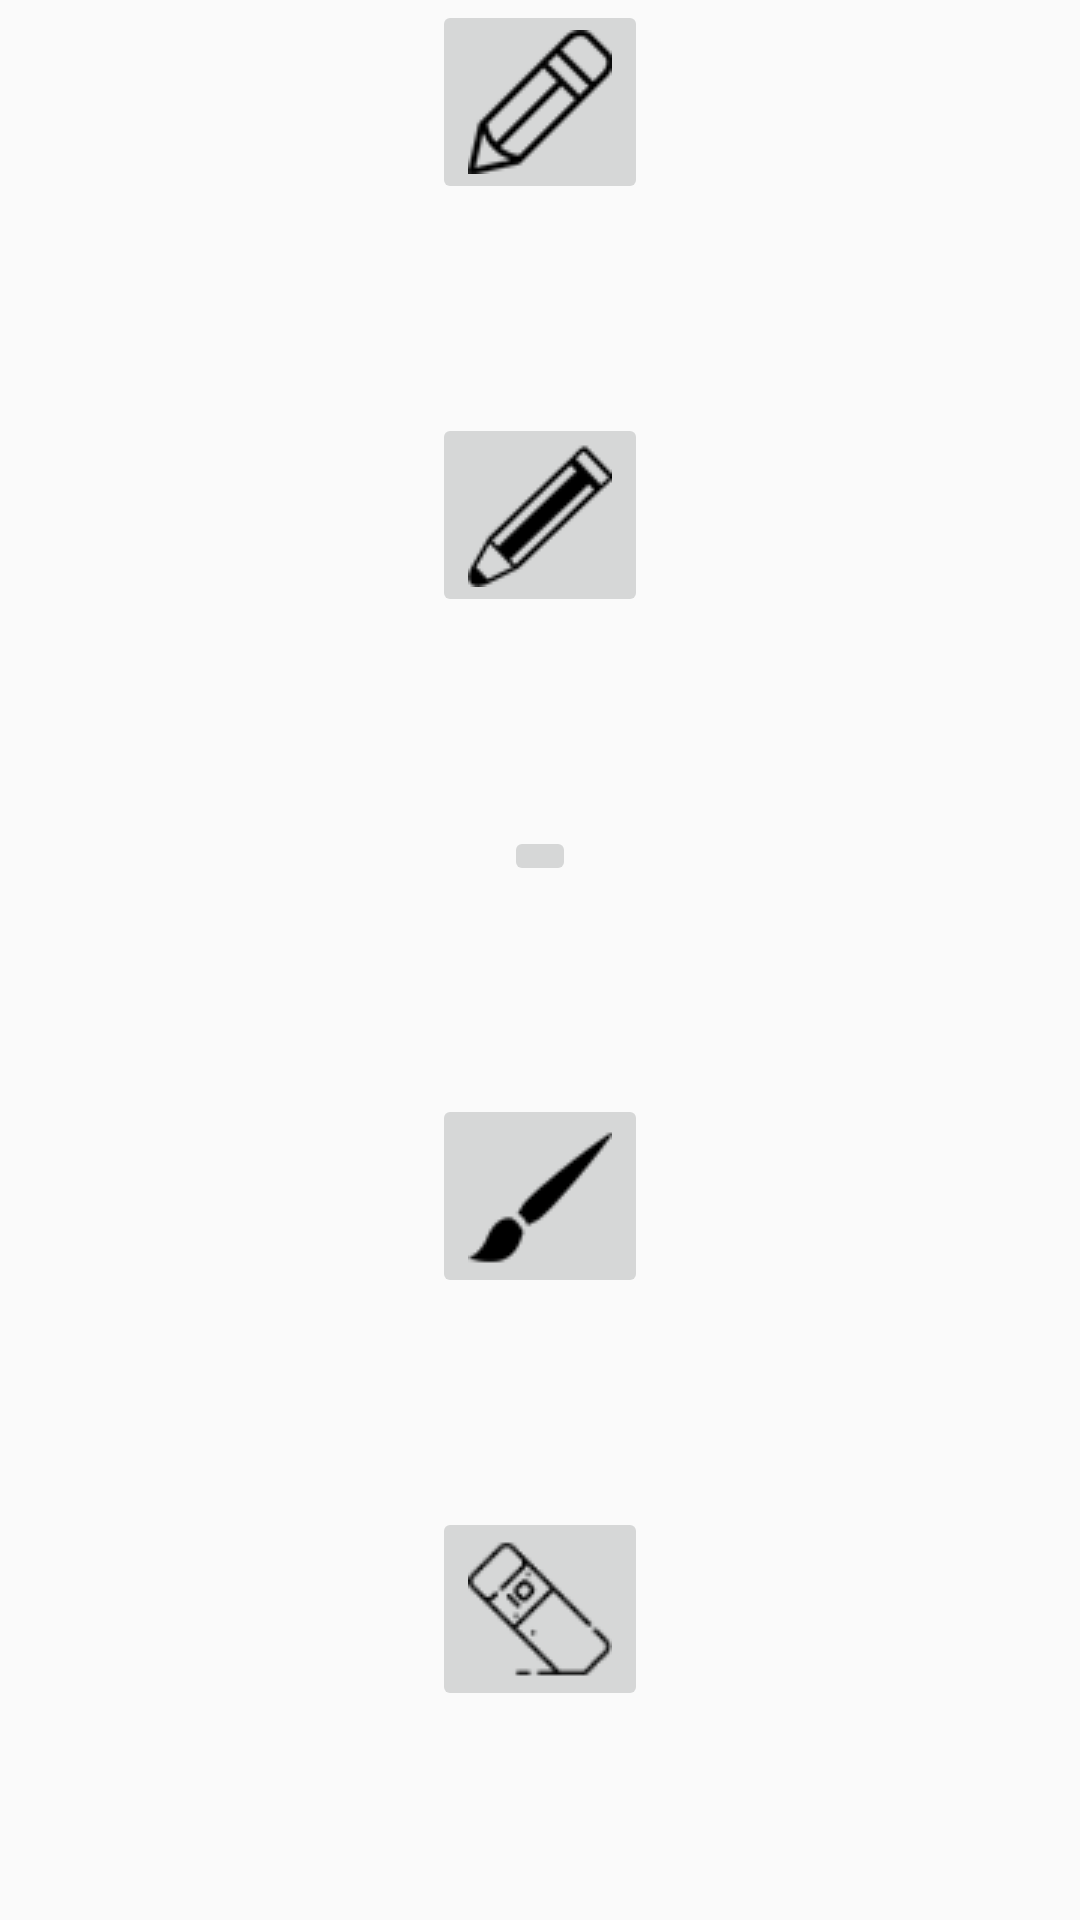

Screen size 1080x1920. Icon name, then its center in pixels as (x,y):
eraser: (540,1609)
